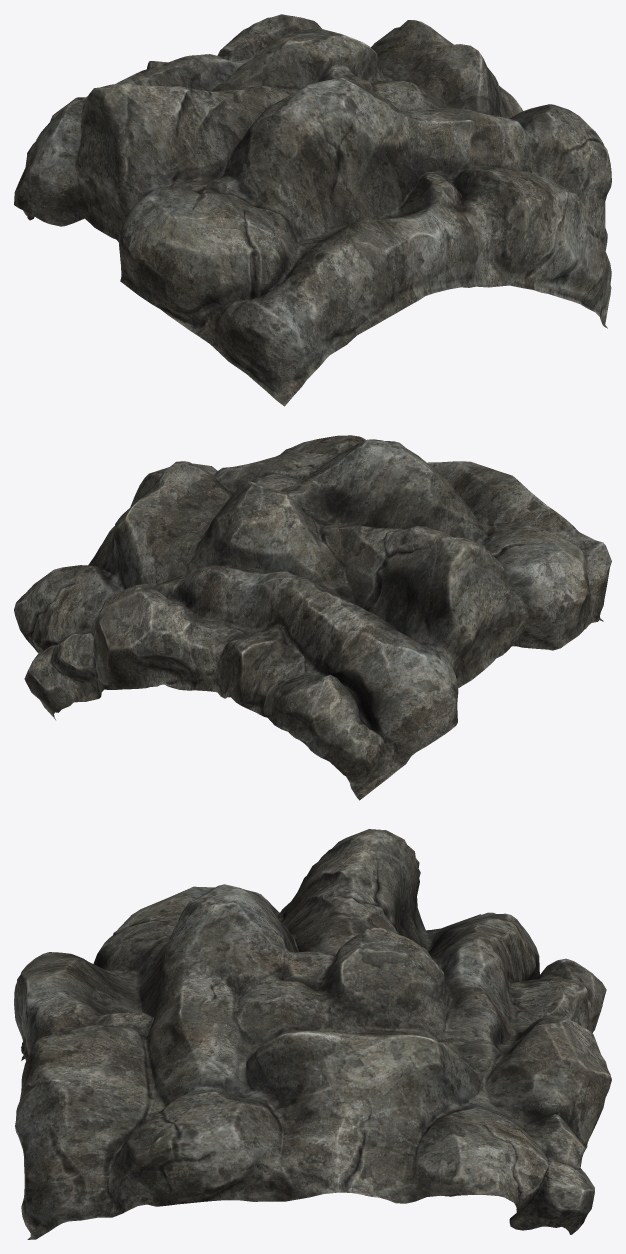
The model's file is cave_ravine_wall_02_domed.dae.
3 renders of one model, top to bottom at view 1: azimuth 30°, elevation 25°; view 2: azimuth 150°, elevation 25°; view 3: azimuth 270°, elevation 25°, orthographic. The views are drawn at different scales.
Parts seen in each view (by area): view 1: wall_2_domed; view 2: wall_2_domed; view 3: wall_2_domed.
Part boxes in pixels (x1,y1,x2,y2): wall_2_domed: [14, 14, 611, 406]; wall_2_domed: [14, 435, 611, 800]; wall_2_domed: [14, 829, 611, 1239].
Size of what is drawn, in the model's own units: 3.81 by 1.73 by 3.82.
